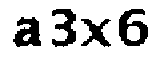3: (49, 5, 78, 50)
6: (116, 5, 152, 50)
a: (10, 17, 44, 49)
x: (80, 17, 113, 51)
